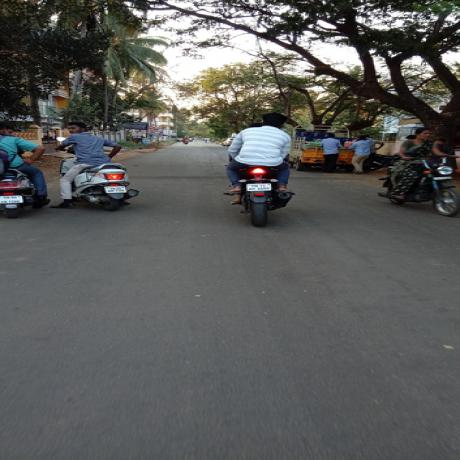Speed Bump: (126, 174, 227, 181), (289, 176, 377, 182)
